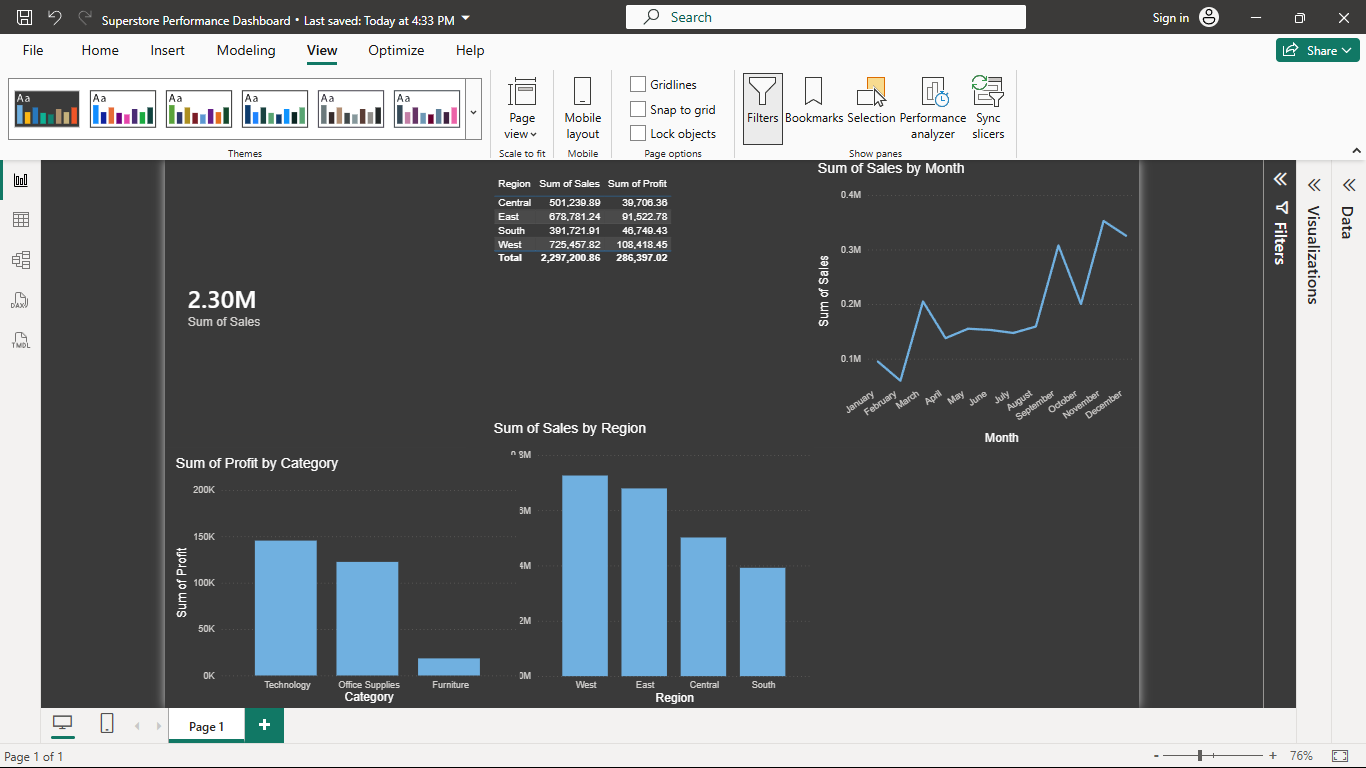

Layout of this report page (visuals, bound fields, positions):
{"tool":"powerbi","page":{"name":"Page 1","canvas":[1280,720],"ordinal":0},"visuals":[{"type":"clusteredColumnChart","fields":{"Category":["Orders.Region"],"Y":["Sum(Orders.Sales)"]},"box":[852.7,222,427,332.4],"z":0},{"type":"clusteredColumnChart","fields":{"Category":["total profits.Category"],"Y":["Sum(total profits.Profit)"]},"box":[0,222,394.2,331.1],"z":1},{"type":"lineChart","fields":{"Category":["Sales By Month.Order Date.Variation.Date Hierarchy.Month"],"Y":["Sum(Sales By Month.Sales)"]},"box":[395.5,222,457.2,332.4],"z":2},{"type":"tableEx","fields":{"Values":["Profit Margin By Region.Region","Sum(Profit Margin By Region.Sales)","Sum(Profit Margin By Region.Profit)"]},"box":[394.2,89.3,445.4,132.7],"z":3},{"type":"cardVisual","fields":{"Data":["Sum(Profit Margin By Region.Sales)"]},"box":[0,89.3,395.5,132.7],"z":4},{"type":"textbox","box":[0,5.3,839.6,84.1],"z":5}]}

Visuals, with their boxes on the page's 1280x720 design canvas (x1, y1, x2, y2). These are canvas units, not pixel positions in the 1366x768 screenshot, which may show the page scaled, cropped or inside an application window:
clusteredColumnChart - Orders.Region x Sum(Orders.Sales): bbox(853, 222, 1280, 554)
clusteredColumnChart - total profits.Category x Sum(total profits.Profit): bbox(0, 222, 394, 553)
lineChart - Sales By Month.Order Date.Variation.Date Hierarchy.Month x Sum(Sales By Month.Sales): bbox(396, 222, 853, 554)
tableEx - Profit Margin By Region.Region x Sum(Profit Margin By Region.Sales): bbox(394, 89, 840, 222)
cardVisual - Sum(Profit Margin By Region.Sales): bbox(0, 89, 396, 222)
textbox: bbox(0, 5, 840, 89)
